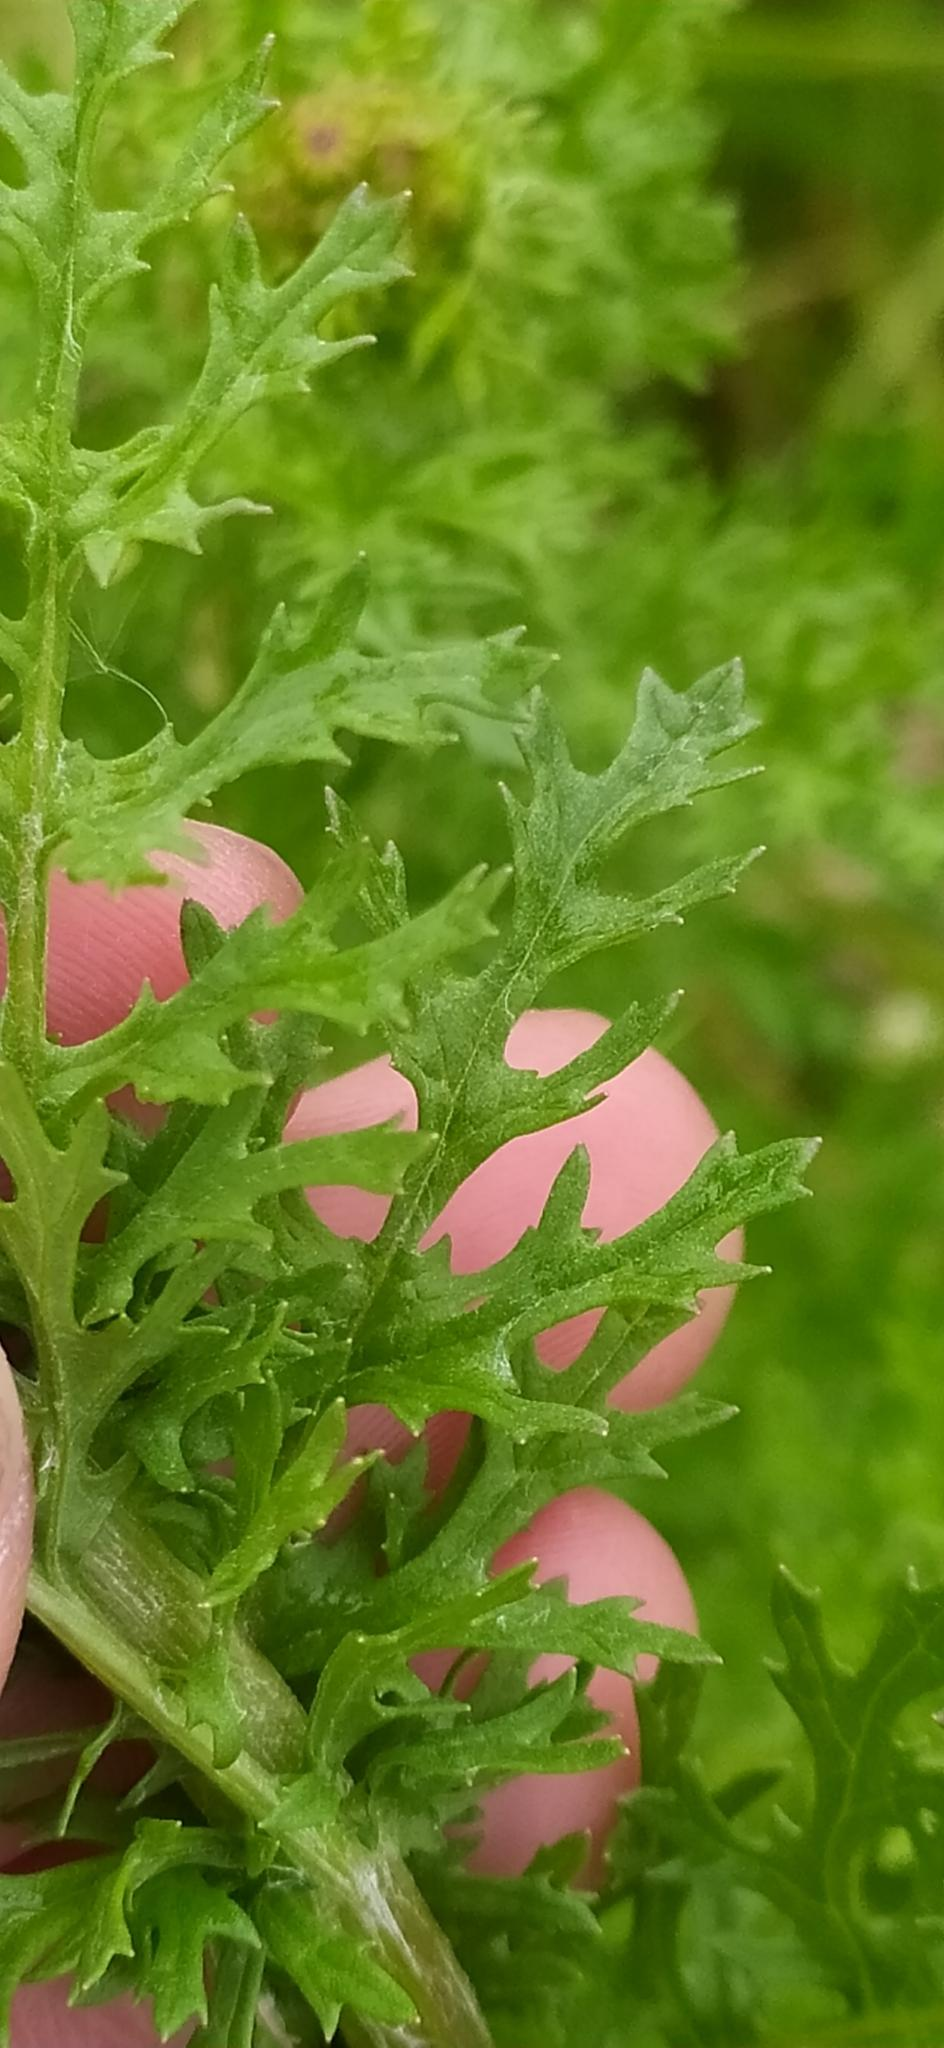Jacobaea vulgaris: (0, 0, 846, 1866)
